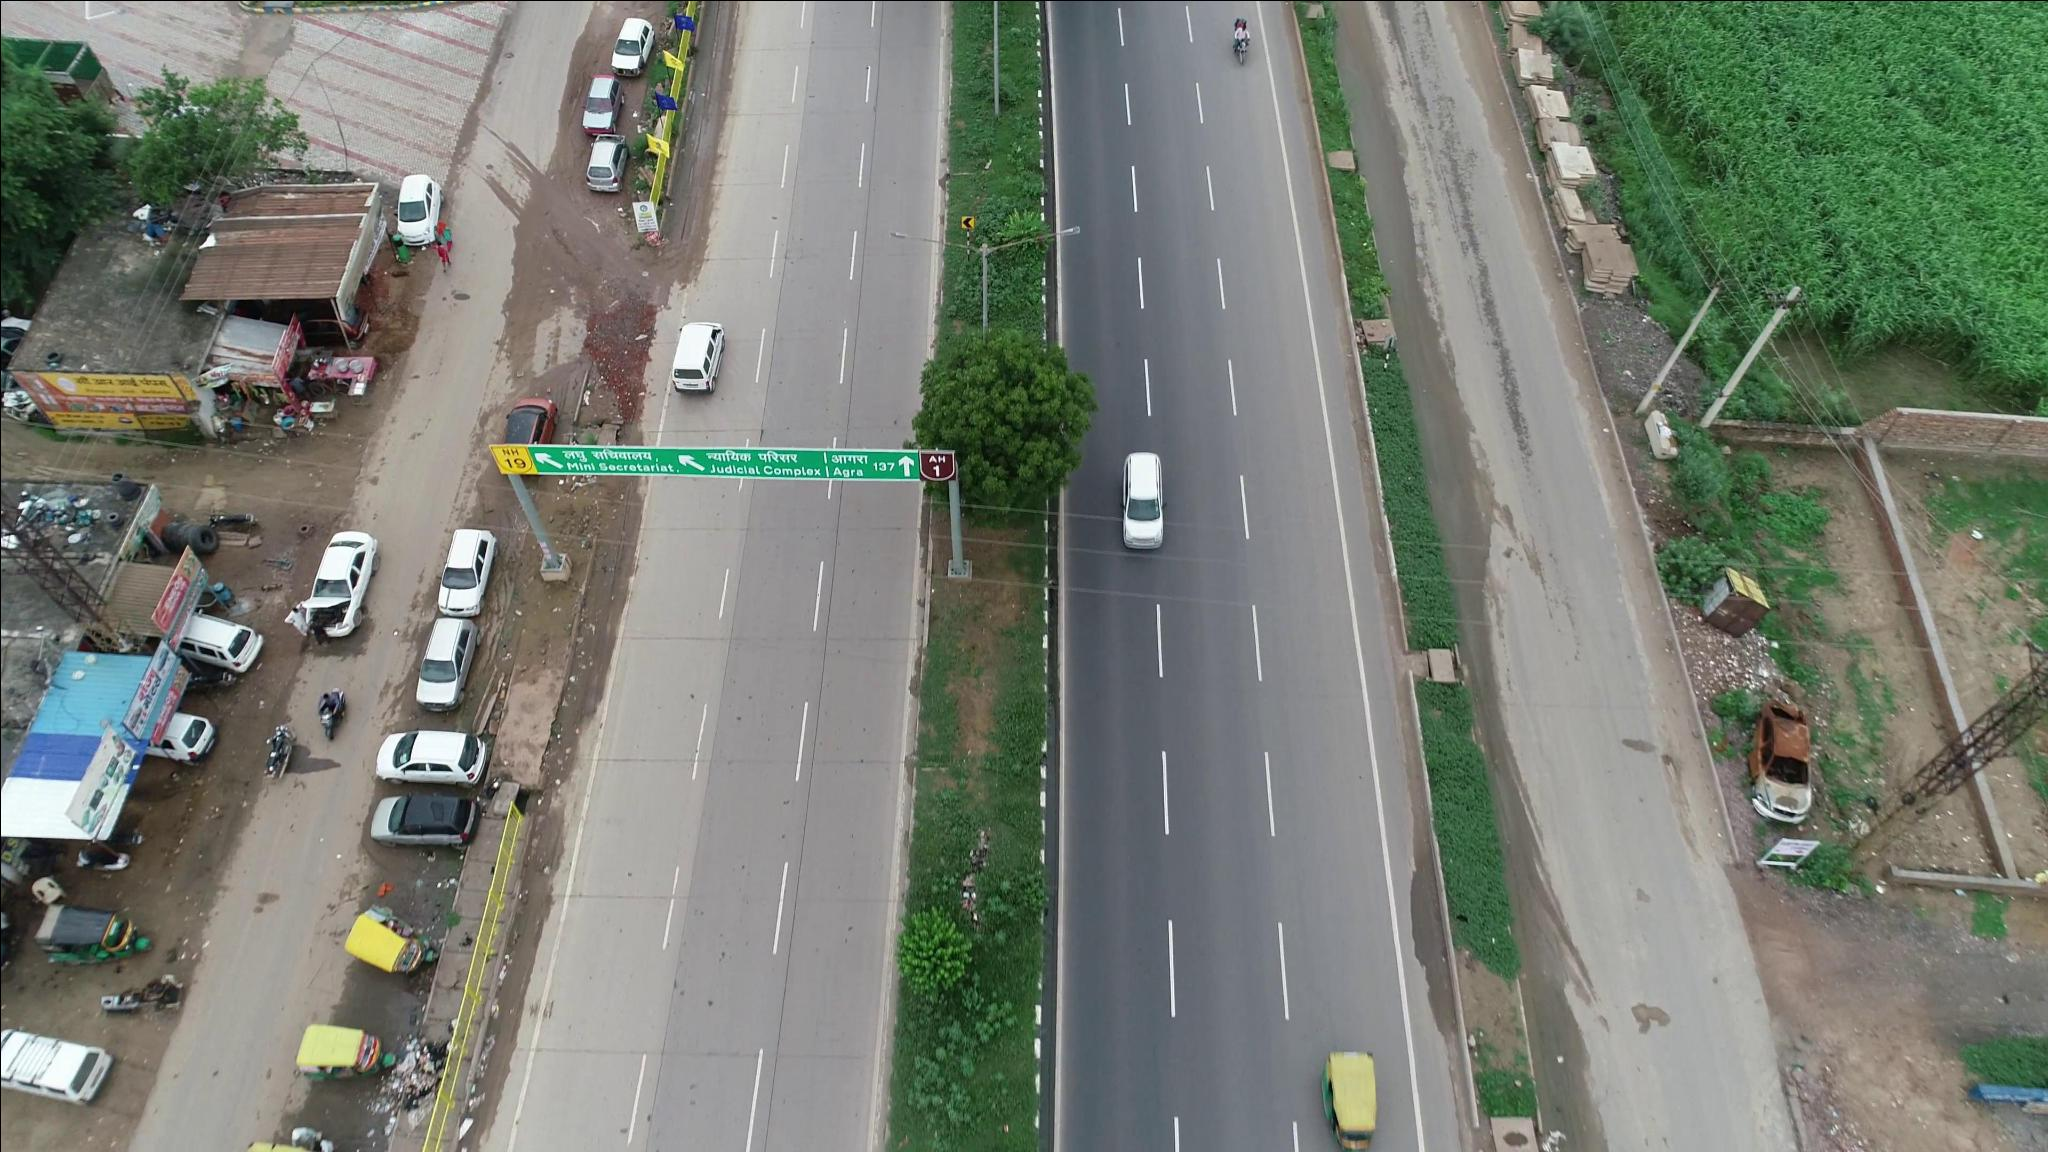Ravelling: (1452, 181, 1533, 456)
